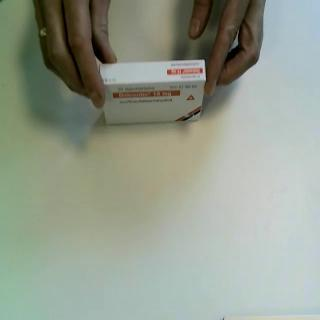dolcontin10mg: (99, 59, 208, 127)
